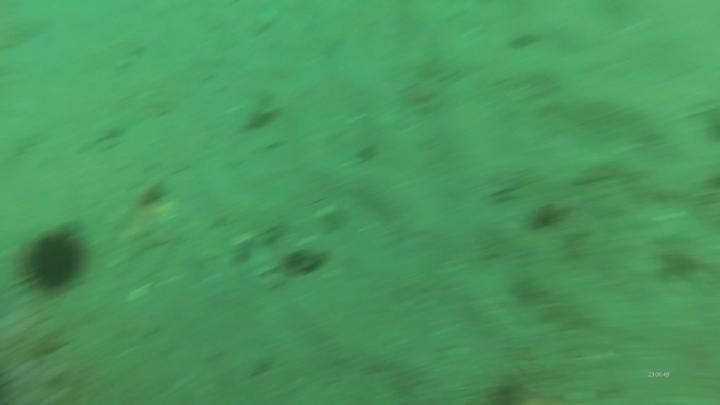echinus: (15, 222, 92, 298)
